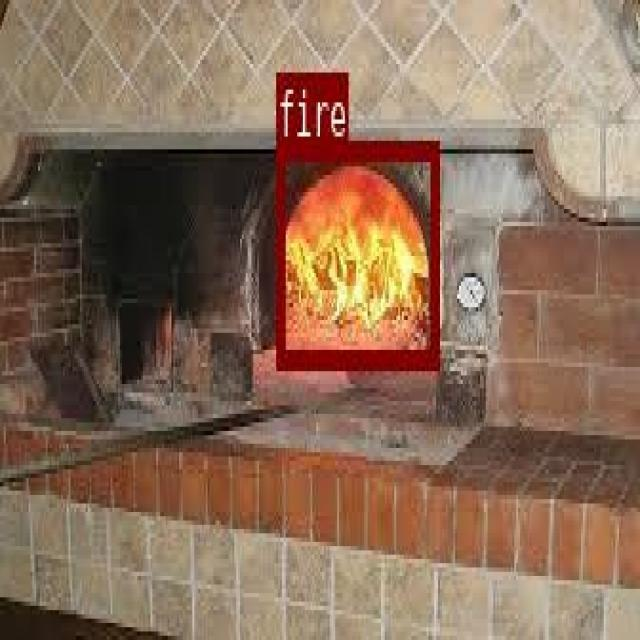fire: (275, 141, 437, 365)
